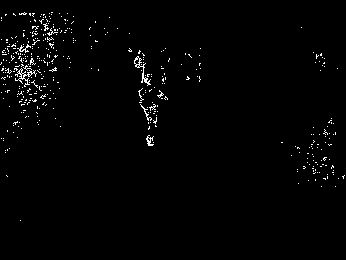person: (138, 72, 169, 149)
